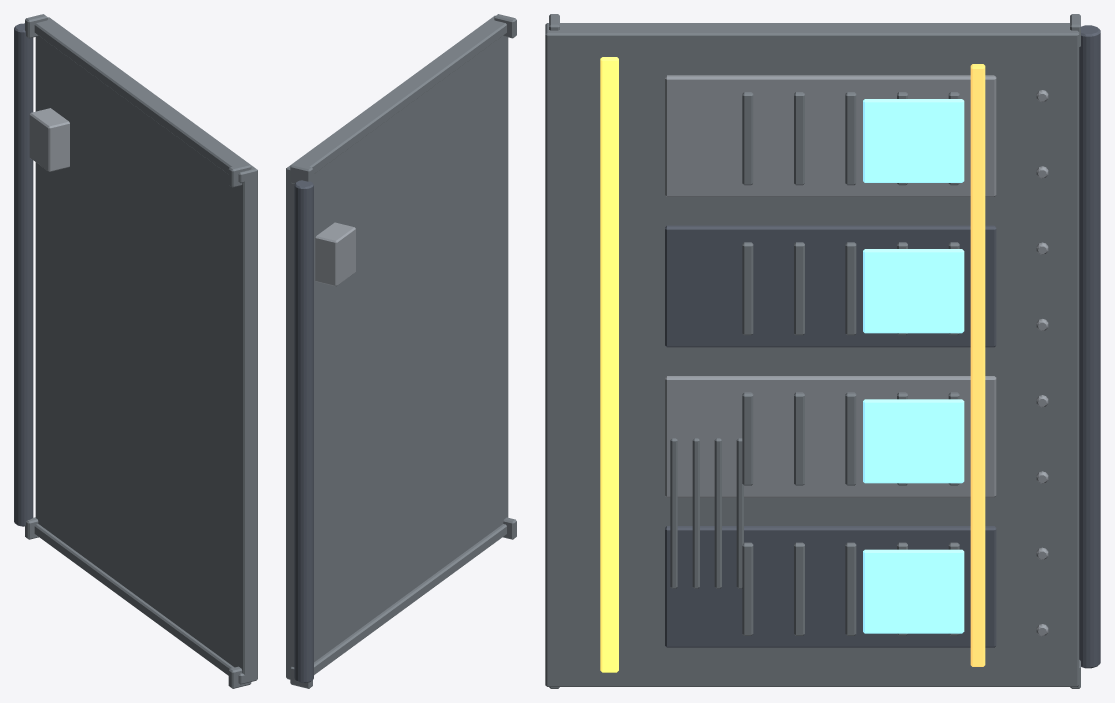
File: wall_panel_l.glb
3 views of the same model, side by side, from view 1: azimuth 30°, elevation 25°; view 2: azimuth 150°, elevation 25°; view 3: azimuth 270°, elevation 25° (orthographic). The views are drawn at different scales.
Parts seen in each view (by area): view 1: WallPanel_L; view 2: WallPanel_L; view 3: WallPanel_L.
Boxes of the visible parts, left/top/right/bottom form: WallPanel_L: left=14, top=14, right=257, bottom=688; WallPanel_L: left=286, top=14, right=516, bottom=688; WallPanel_L: left=545, top=14, right=1100, bottom=688.
Bounding box in the file's own units: 0.375 × 3.98 × 3.02.
